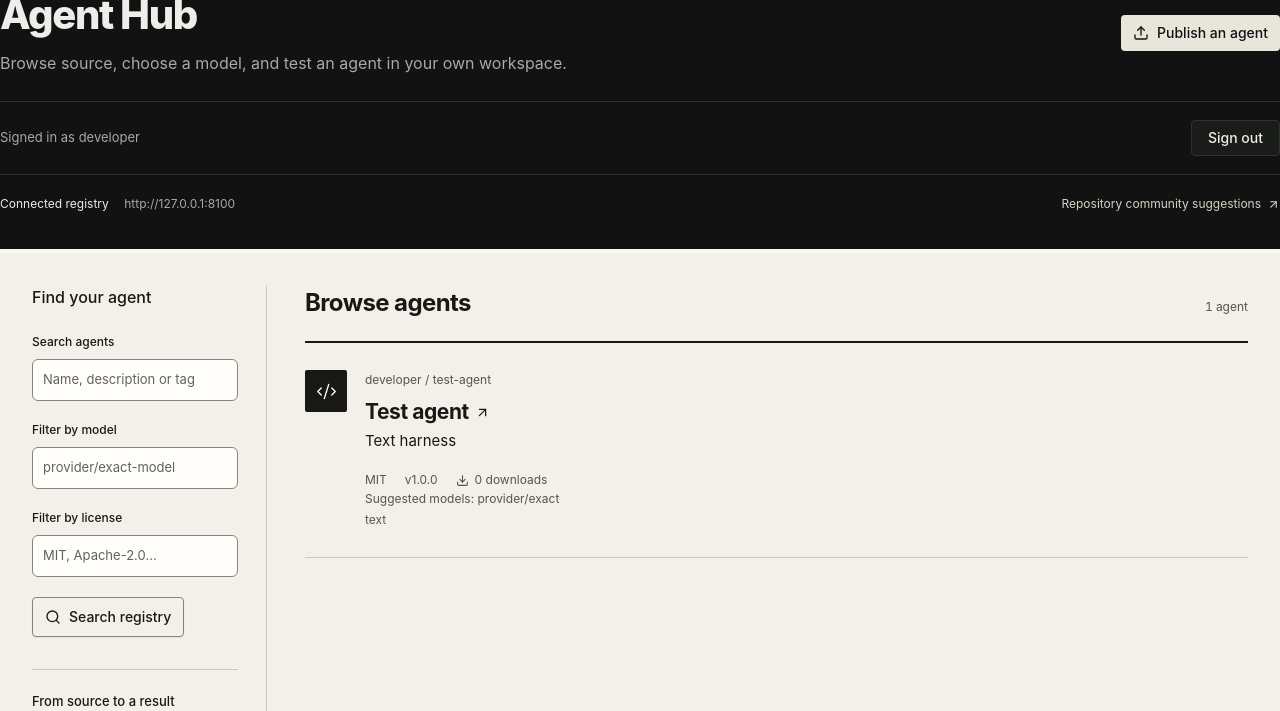
Scenario: requires acknowledgement and links the publication rules before enabling publication
This screenshot has width=1280, height=711.
Click the button "Publish an agent" at coordinates (1200, 33), box [1121, 15, 1279, 51]
(page scrolled)
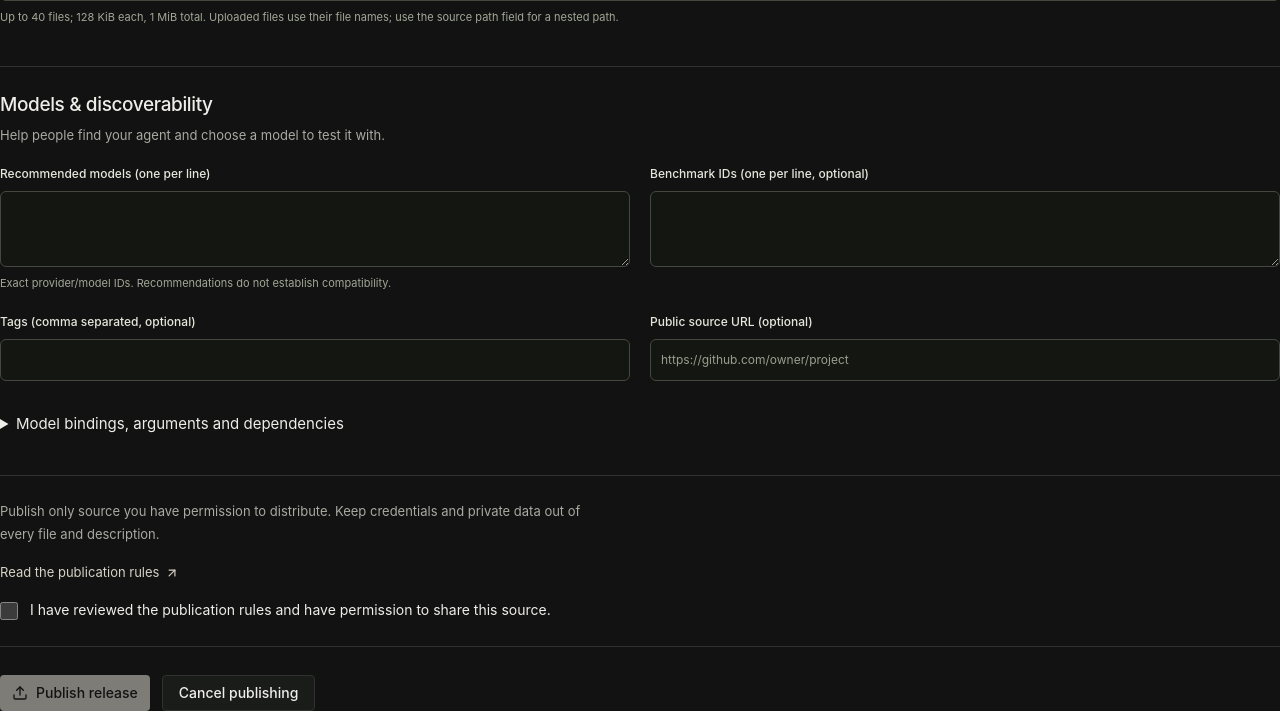
expect the button "Publish release" is disabled: met, box [0, 675, 150, 710]
Click the checkbox labelled "I have reviewed the publication rules" at coordinates (9, 611), box [0, 602, 18, 620]
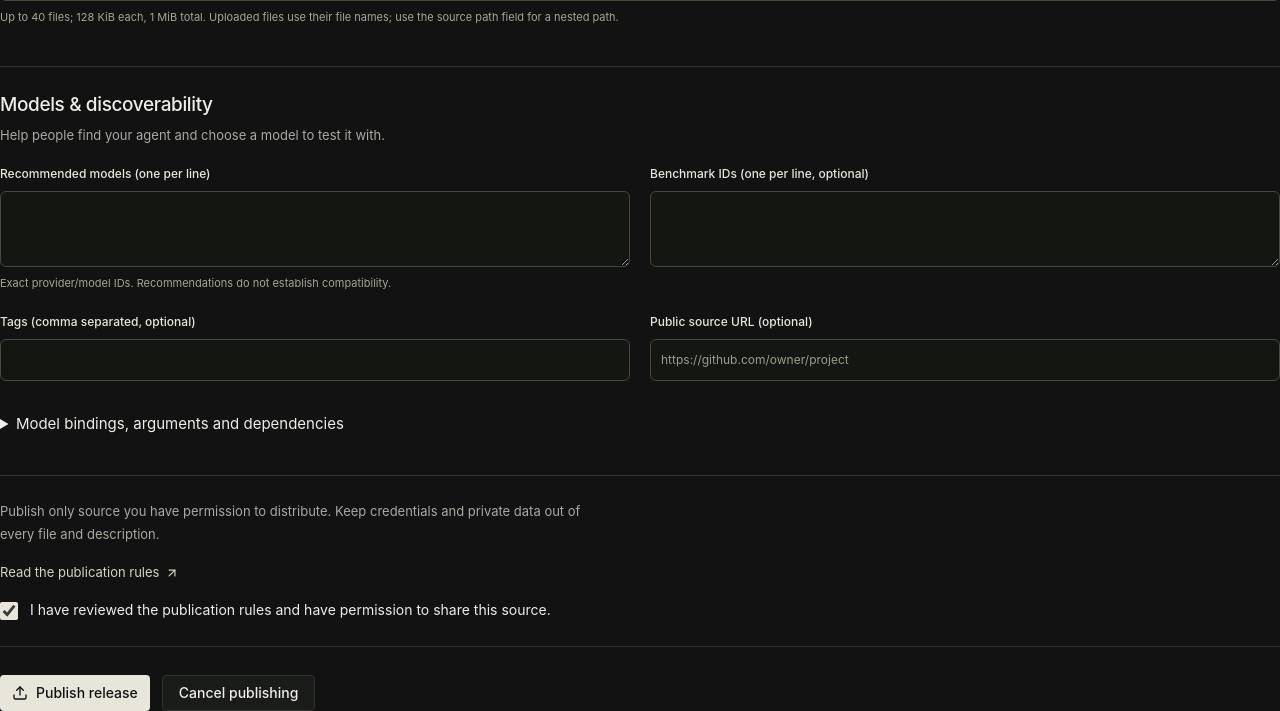
expect the button "Publish release" is enabled: met, box [0, 675, 150, 710]
